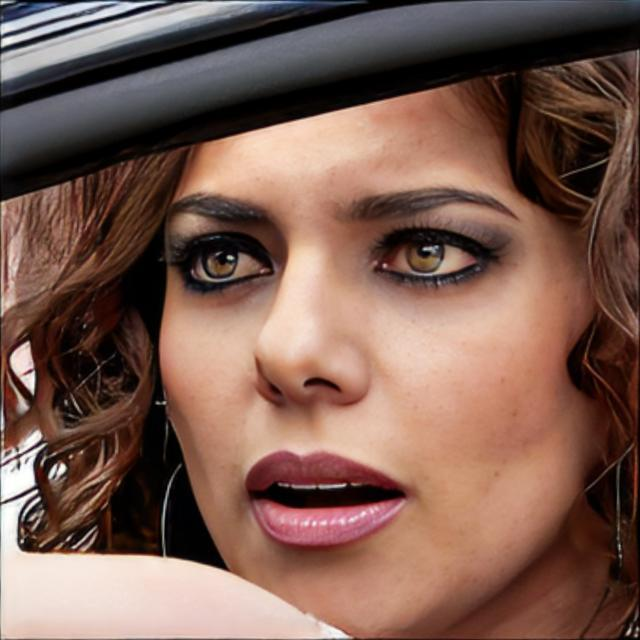disgust: (157, 33, 620, 640)
